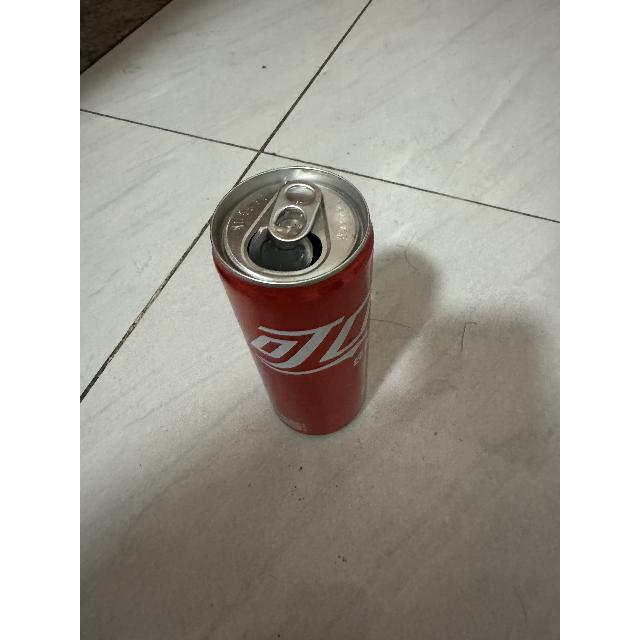coca-cola: (207, 160, 386, 444)
